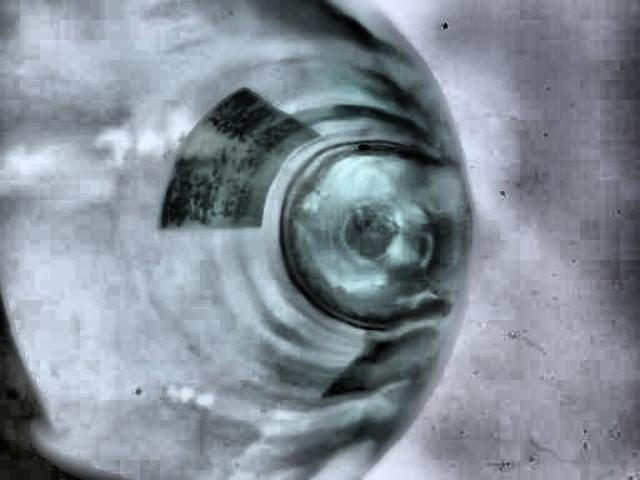Almennt: (0, 1, 468, 480)
